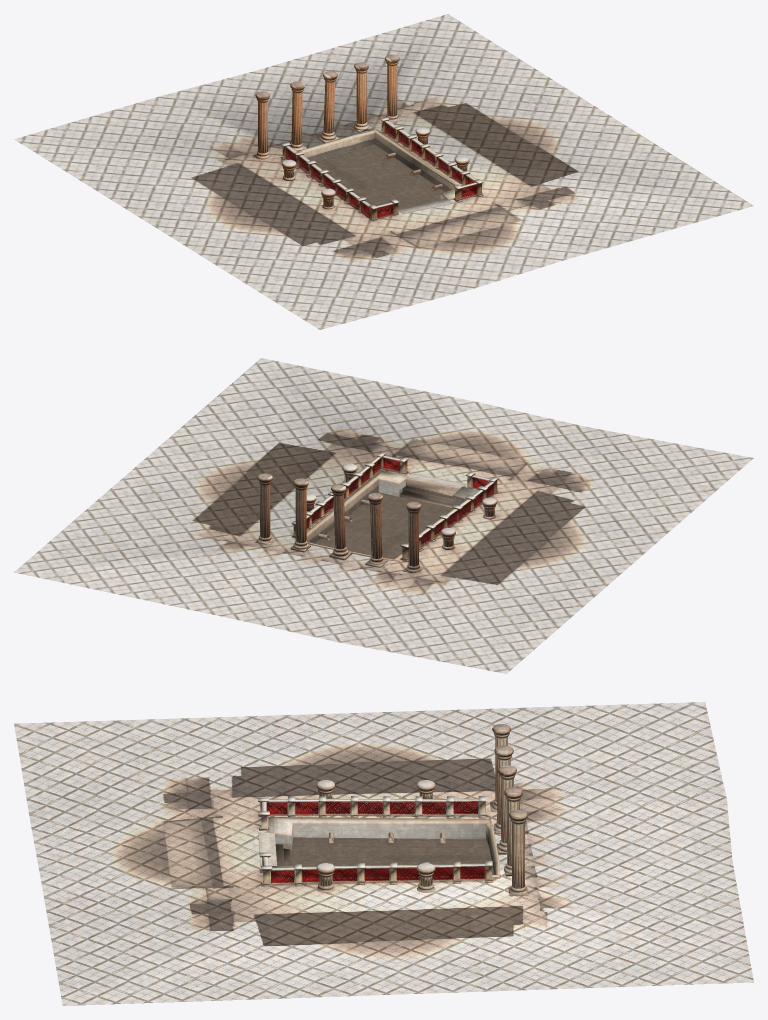
The model's file is Floor.gltf.
3 views of the same model, one above another, from view 1: azimuth 30°, elevation 25°; view 2: azimuth 150°, elevation 25°; view 3: azimuth 270°, elevation 25° (orthographic). The views are drawn at different scales.
Visible parts, largest first — view 1: Floor; view 2: Floor; view 3: Floor.
Part boxes in pixels (x1,y1,x2,y2): Floor: [14, 14, 753, 329]; Floor: [14, 358, 753, 673]; Floor: [14, 702, 753, 1005].
Size of the model in its own units: 35.64 by 6.56 by 36.8.
4 materials, 4 textured.
